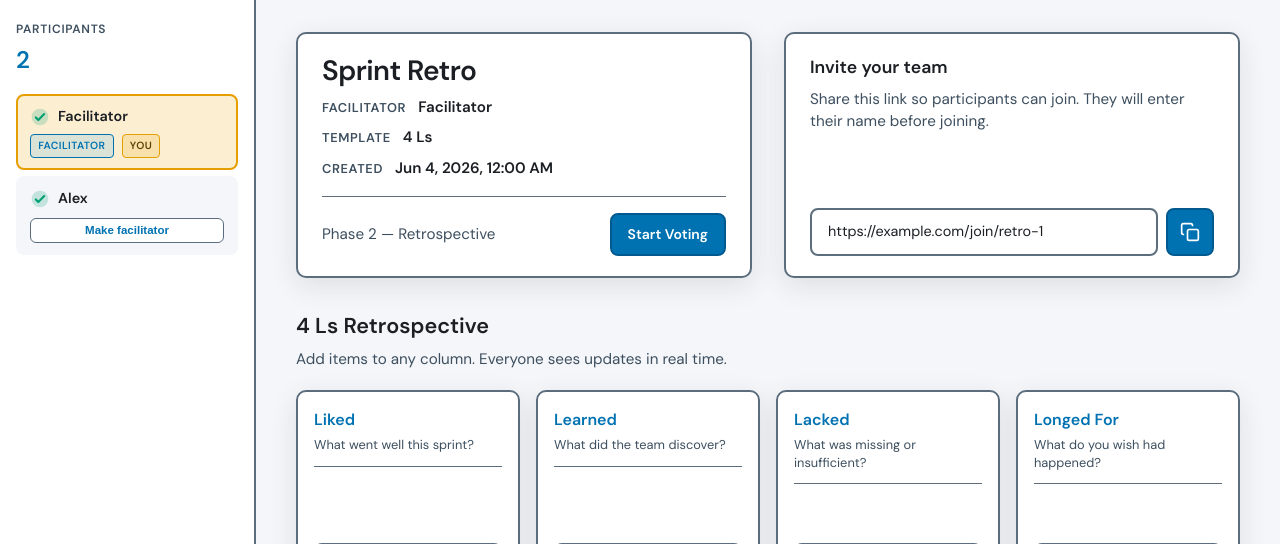
Test case: SessionPage › shows an error when facilitator transfer fails
The image size is (1280, 544).
Click the button with aria-label "Make Alex facilitator".
click(127, 230)  # box left=30, top=218, right=224, bottom=243
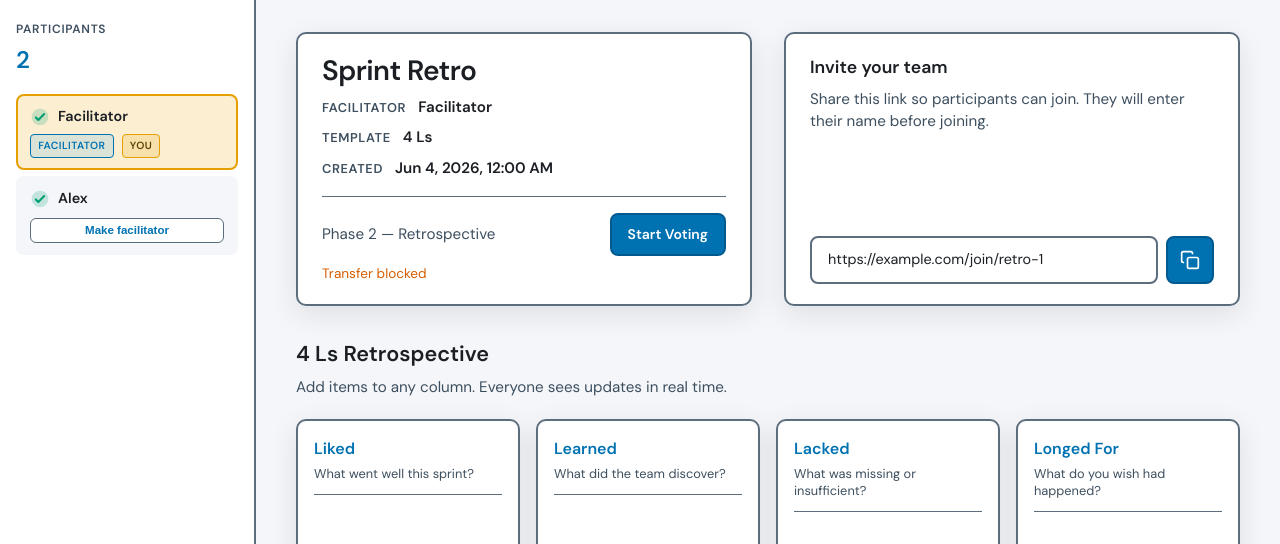
Check: the text "Transfer blocked" is shown, box left=322, top=265, right=427, bottom=282
